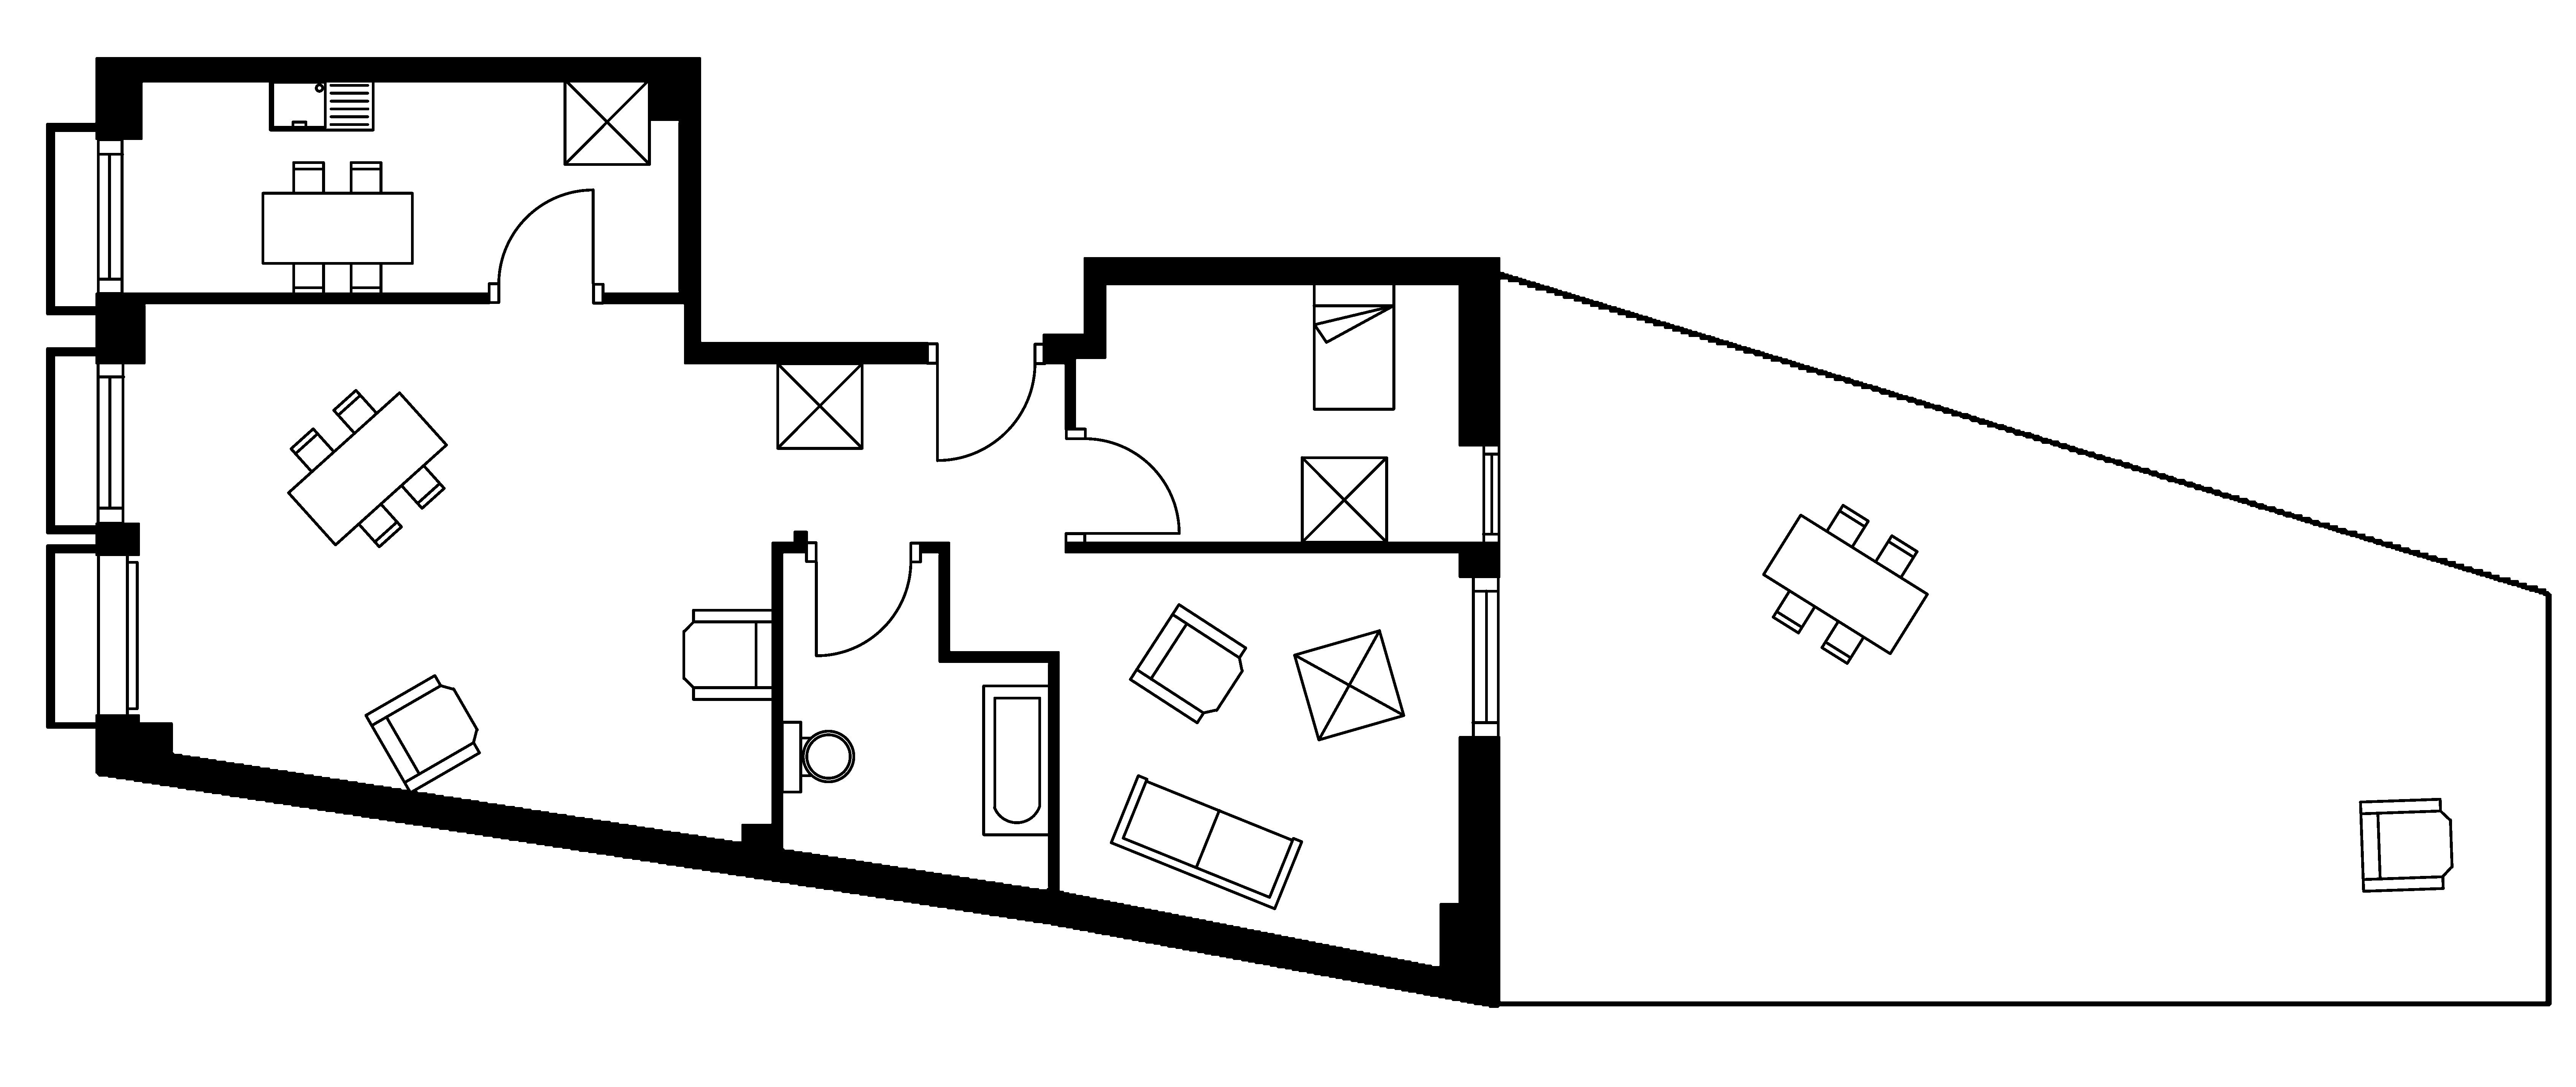armchair: (1129, 602, 1247, 725), (363, 673, 481, 794), (2357, 798, 2453, 893), (682, 608, 774, 701)
bed: (1311, 281, 1396, 411)
coffee_table: (1293, 628, 1405, 742), (562, 77, 651, 166), (775, 362, 864, 451), (1299, 456, 1388, 544)
dining_table: (1761, 503, 1929, 666), (286, 388, 448, 549), (261, 160, 414, 296)
large_sink: (780, 720, 854, 794)
large_sofa: (1109, 773, 1303, 911)
sink: (268, 77, 375, 132)
tub: (981, 684, 1051, 837)
